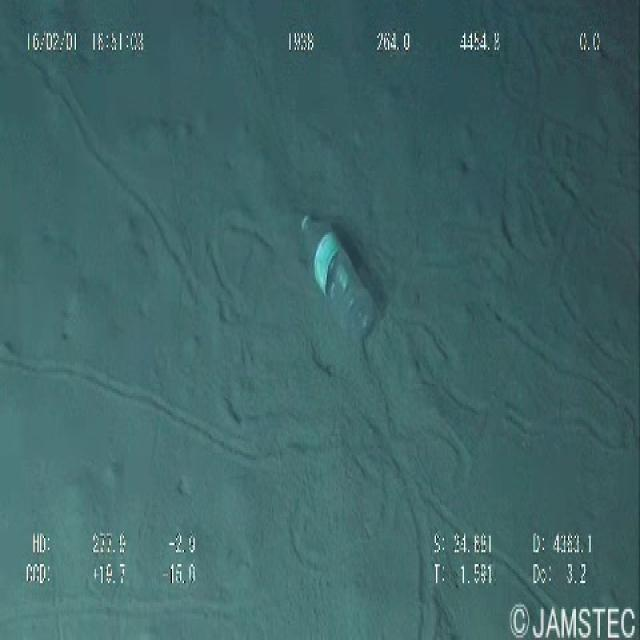plastic: (292, 199, 376, 341)
